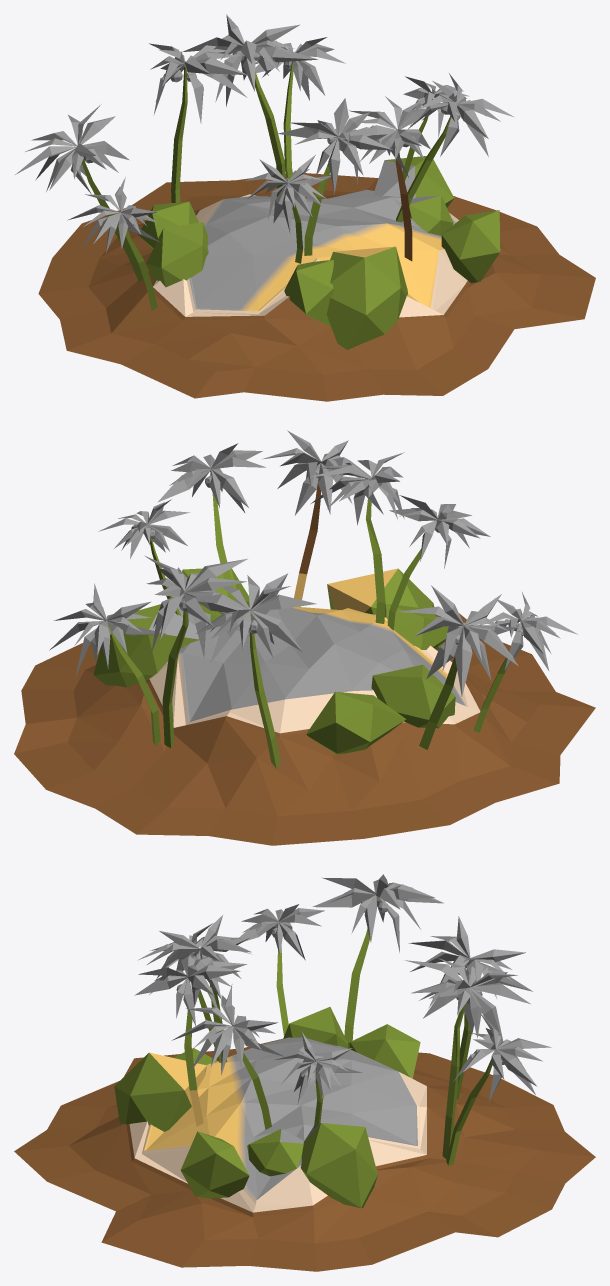
The model's file is island.obj.
3 views of the same model, one above another, from view 1: azimuth 30°, elevation 25°; view 2: azimuth 150°, elevation 25°; view 3: azimuth 270°, elevation 25° (orthographic). The views are drawn at different scales.
Visible parts, largest first — view 1: Island; view 2: Island; view 3: Island.
Boxes of the visible parts, x1,y1,x2,y2 form: Island: [15, 14, 595, 401]; Island: [14, 430, 595, 845]; Island: [14, 874, 595, 1271].
Bounding box in the file's own units: 104 × 44.33 × 107.
1 material, 1 textured.
